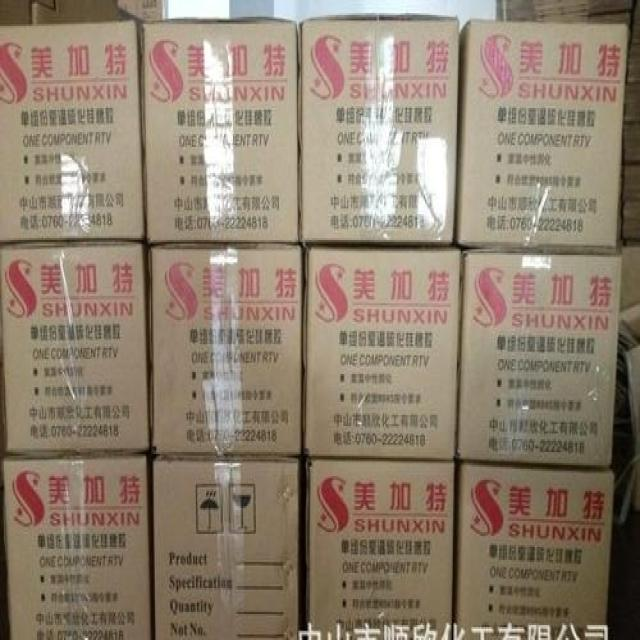box: (456, 23, 626, 249), (458, 248, 622, 469), (301, 15, 456, 244), (142, 17, 299, 243), (301, 248, 462, 461), (148, 245, 302, 458), (0, 23, 146, 247), (0, 244, 149, 453), (454, 463, 614, 638), (3, 452, 151, 638), (150, 457, 298, 637), (307, 461, 456, 638)
